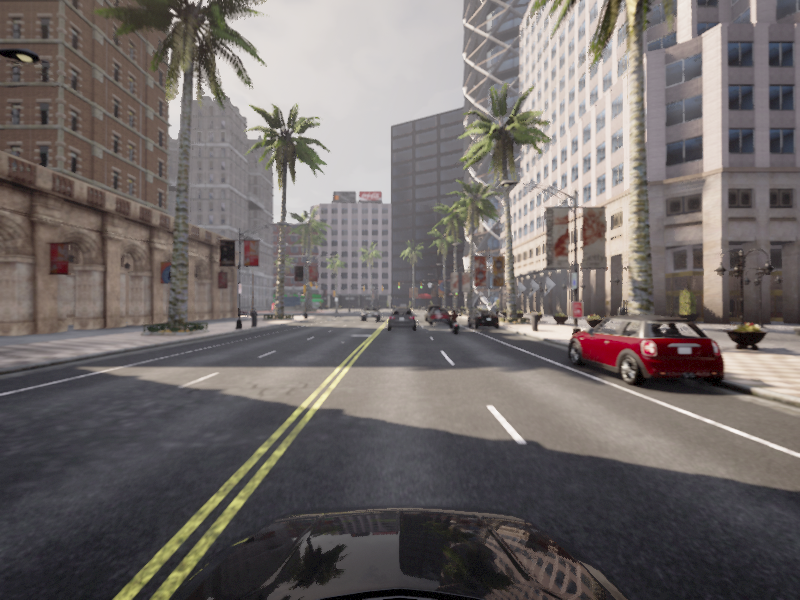vehicle: (386, 307, 417, 330), (426, 307, 451, 325), (446, 309, 462, 335), (360, 304, 381, 322), (390, 306, 413, 322), (424, 304, 443, 322)
